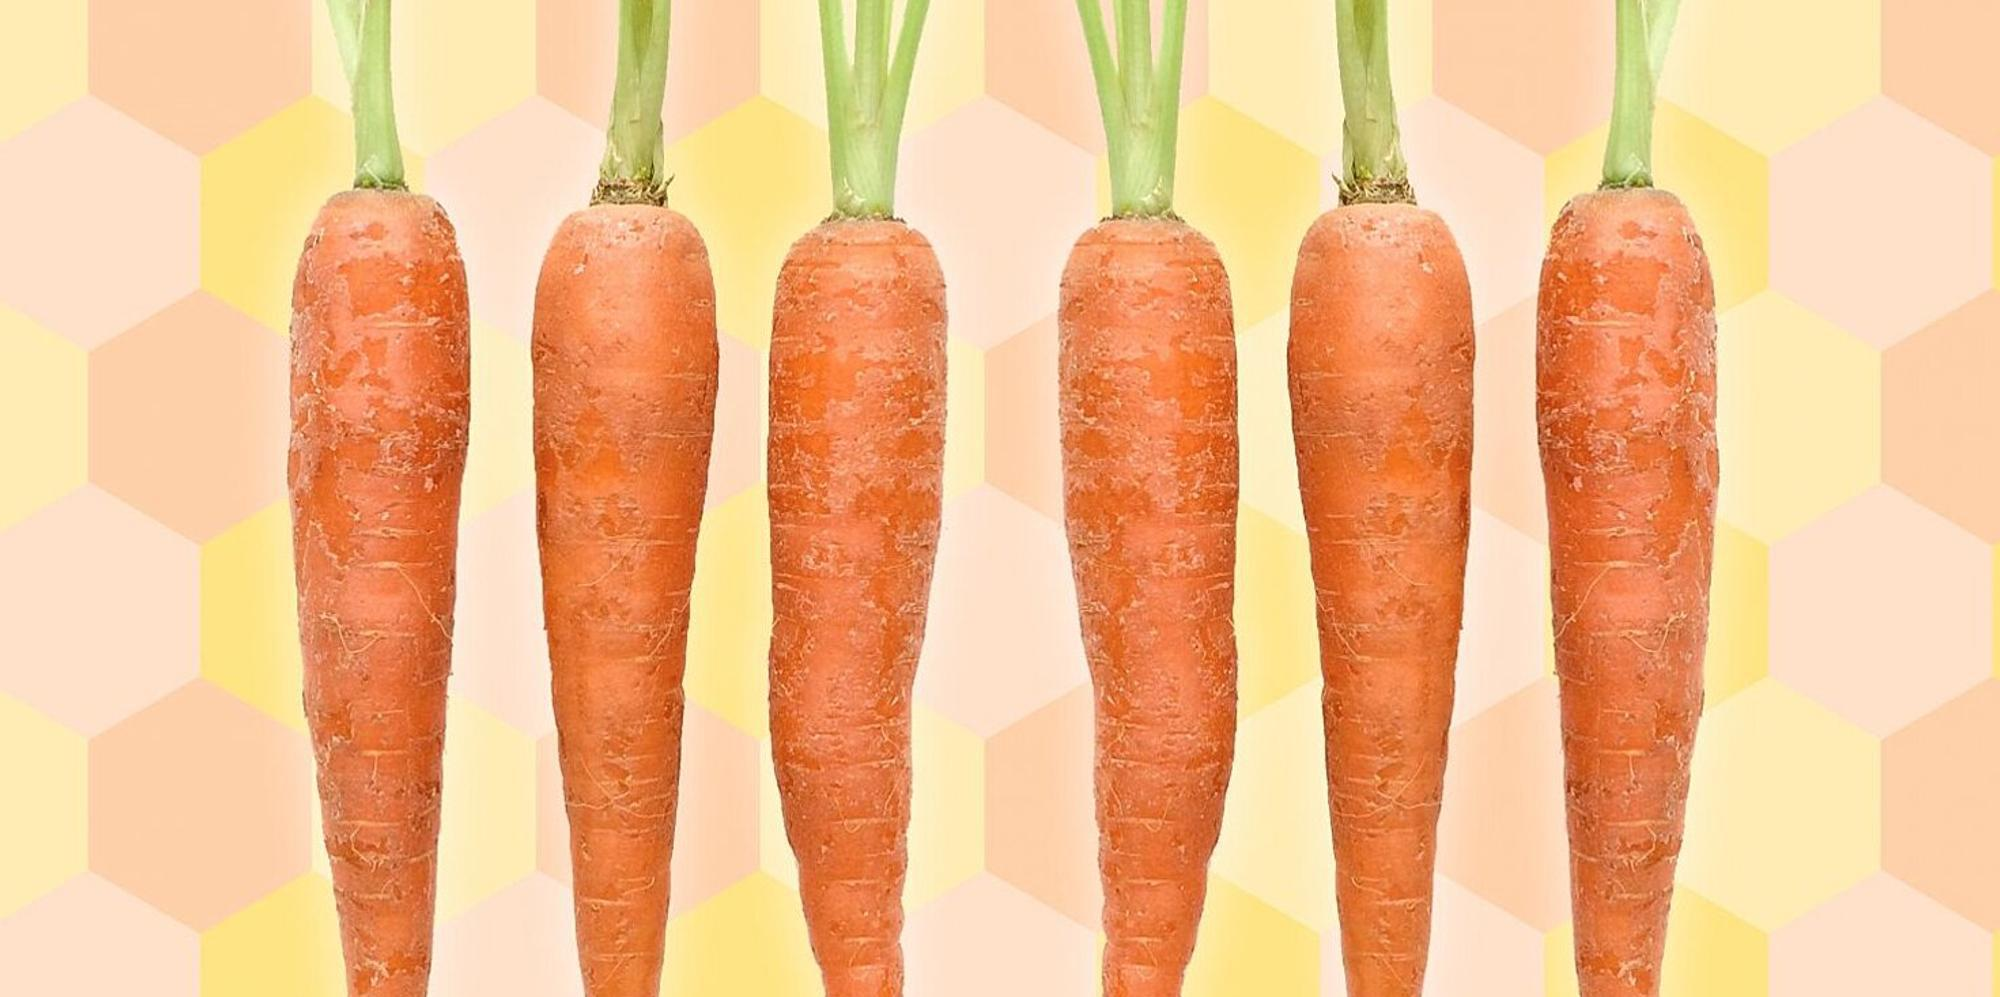carrot: (1528, 164, 1761, 997), (759, 200, 977, 997), (278, 177, 477, 997), (1054, 173, 1245, 997), (538, 173, 730, 997), (1282, 177, 1469, 997)
